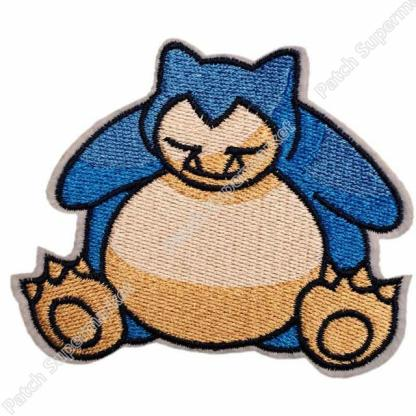Snorlax: (25, 58, 413, 379)
